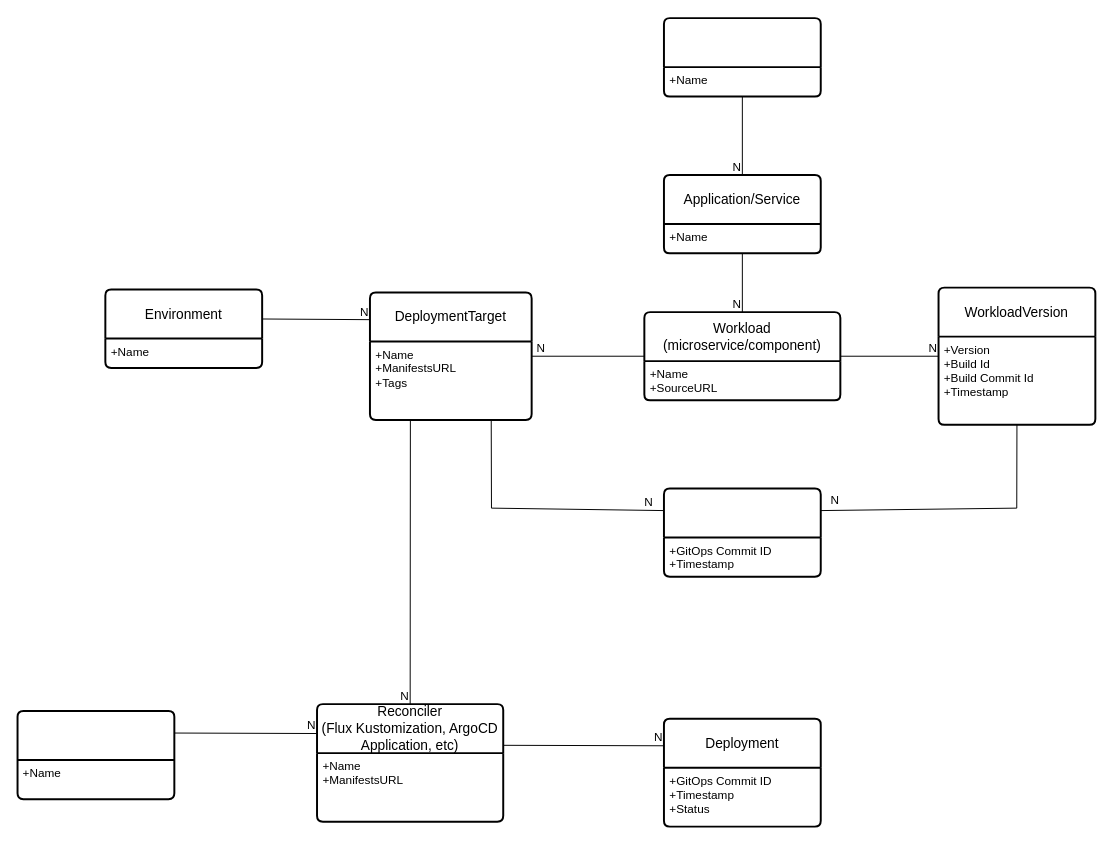
This 1113x844 diagram has some shape labels left out. Each missing label, with the box of its shape:
Assignment: (662, 487, 821, 577)
Host (Cluster): (16, 710, 175, 800)
Workspace (Team): (662, 17, 821, 97)
